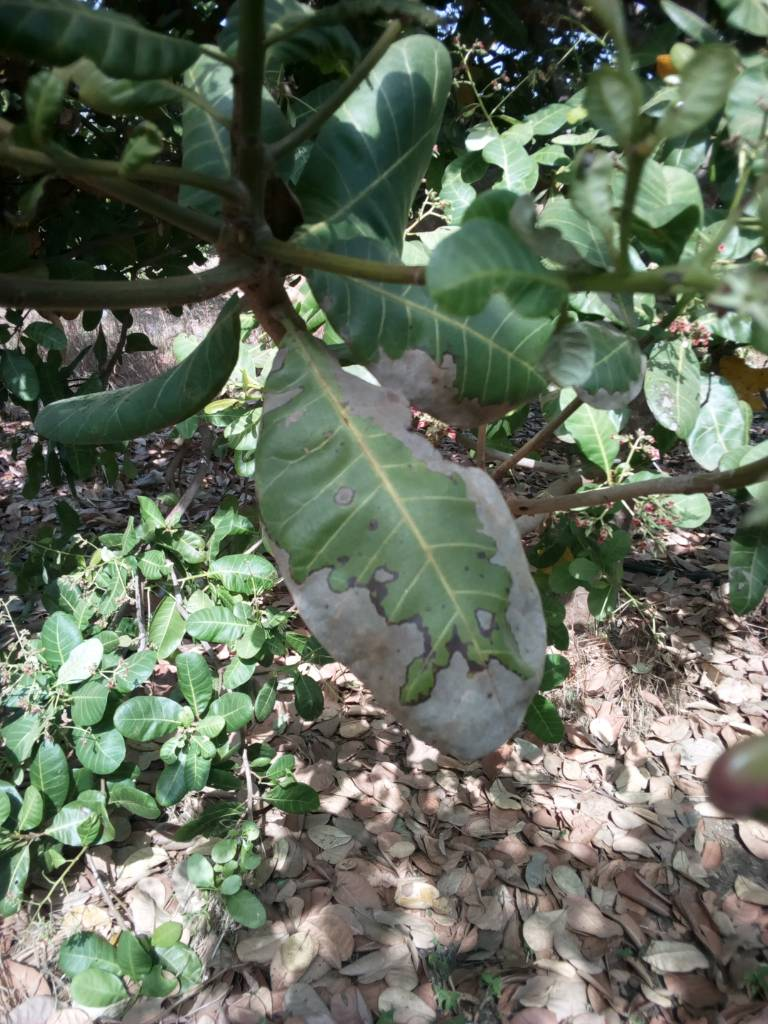Die-black: (232, 371, 561, 774), (293, 261, 593, 416)
